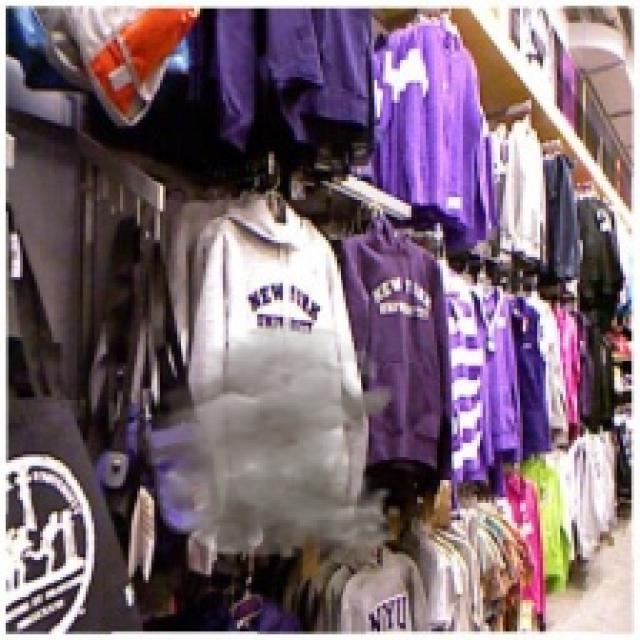Smoke: (126, 322, 403, 568)
